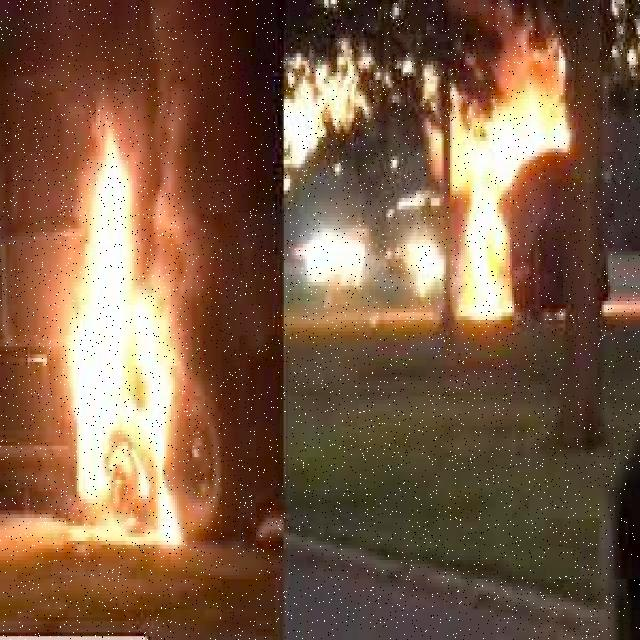fire: (75, 124, 211, 545), (485, 72, 577, 318)
